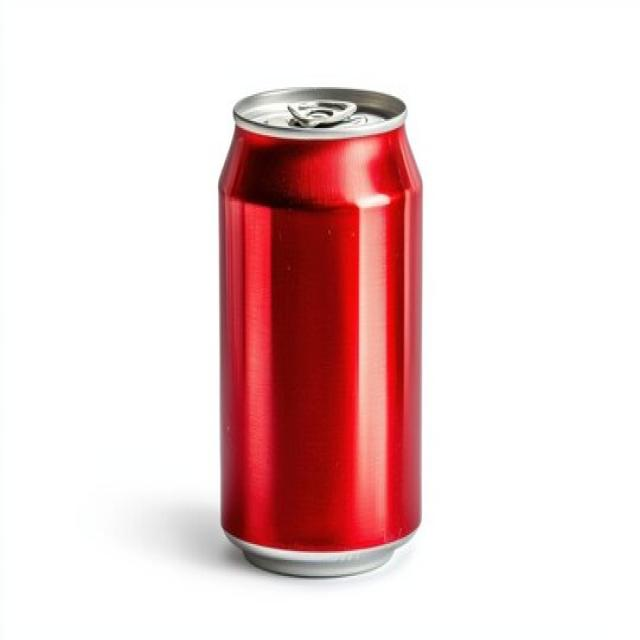soda_can: (203, 64, 456, 595)
